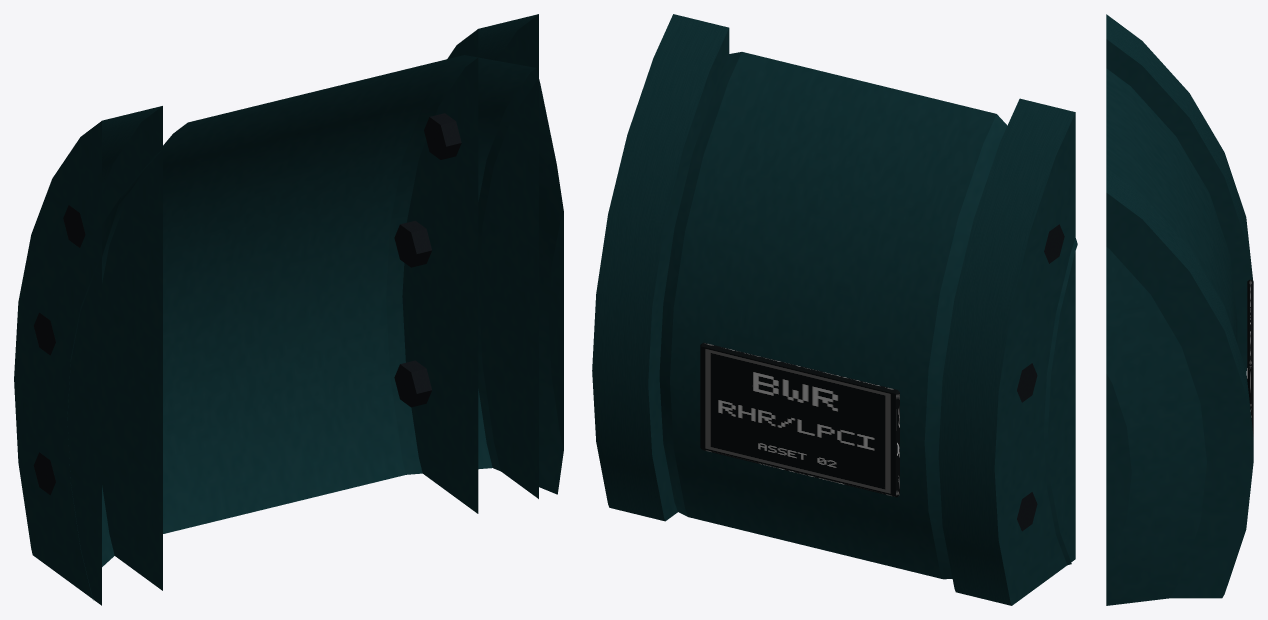
Rendered from cell_19.obj.
The picture shows the model from 3 angles, left to right: view 1: azimuth 30°, elevation 25°; view 2: azimuth 150°, elevation 25°; view 3: azimuth 270°, elevation 25°; orthographic projection. The views are drawn at different scales.
Parts seen in each view (by area): view 1: cell_19; view 2: cell_19; view 3: cell_19.
Boxes of the visible parts, x1,y1,x2,y2 form: cell_19: (14,14,563,605); cell_19: (592,14,1077,605); cell_19: (1106,14,1253,605).
Size of the model in its own units: 0.965 by 0.9642 by 0.3177.
